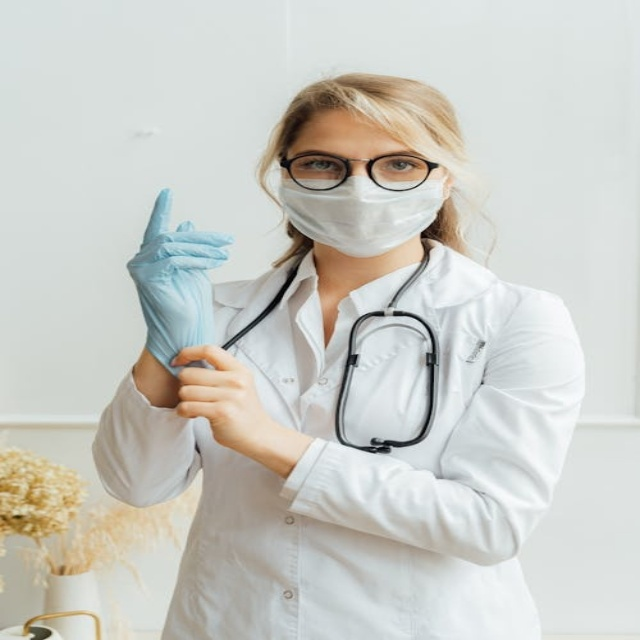Gafas: (279, 145, 443, 201)
Guantes: (128, 186, 236, 379)
Mascara: (277, 167, 446, 255)
Sin_guantes: (170, 344, 294, 465)
